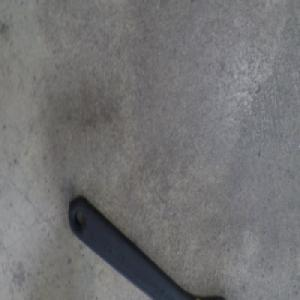AdjustableWrench: (67, 194, 216, 299)
